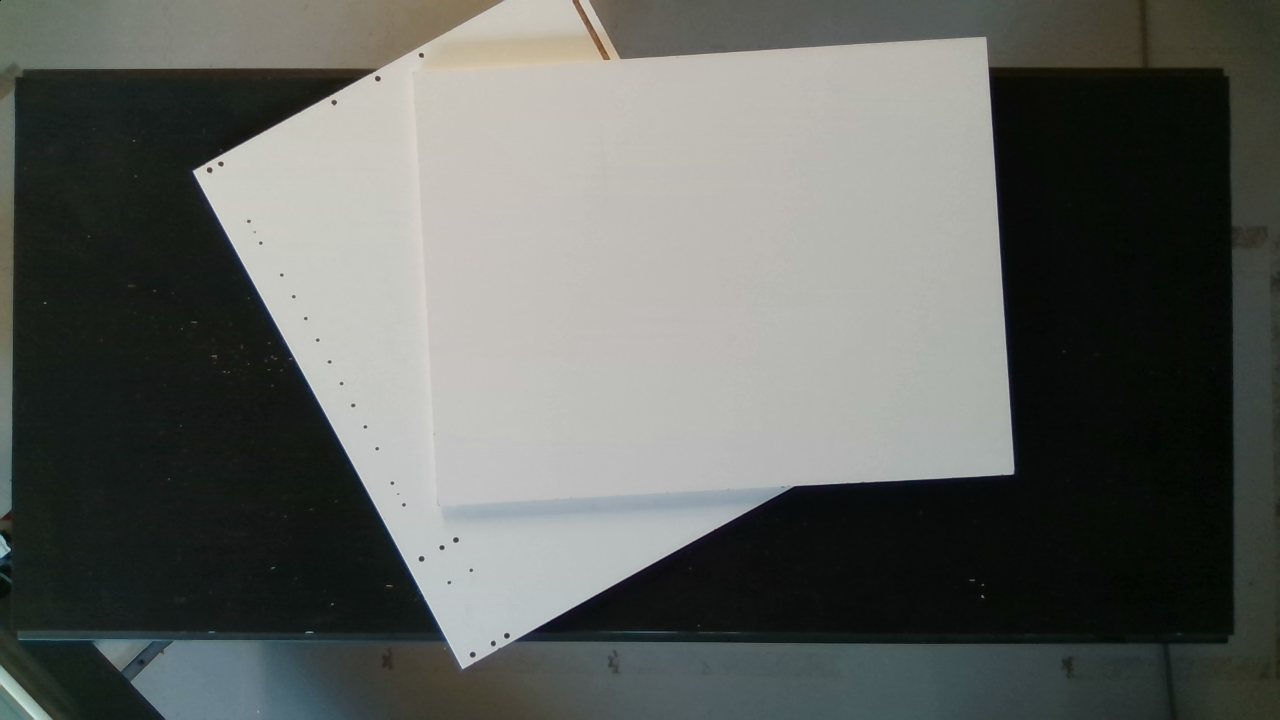part2: (410, 31, 1035, 512)
